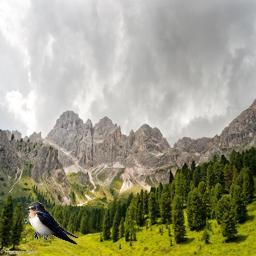Swallow: (25, 201, 79, 246)
